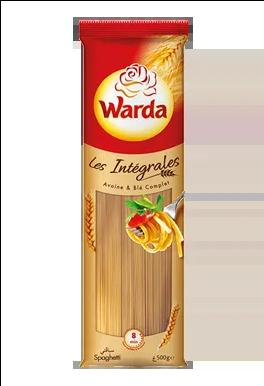lasagne: (85, 20, 183, 366)
